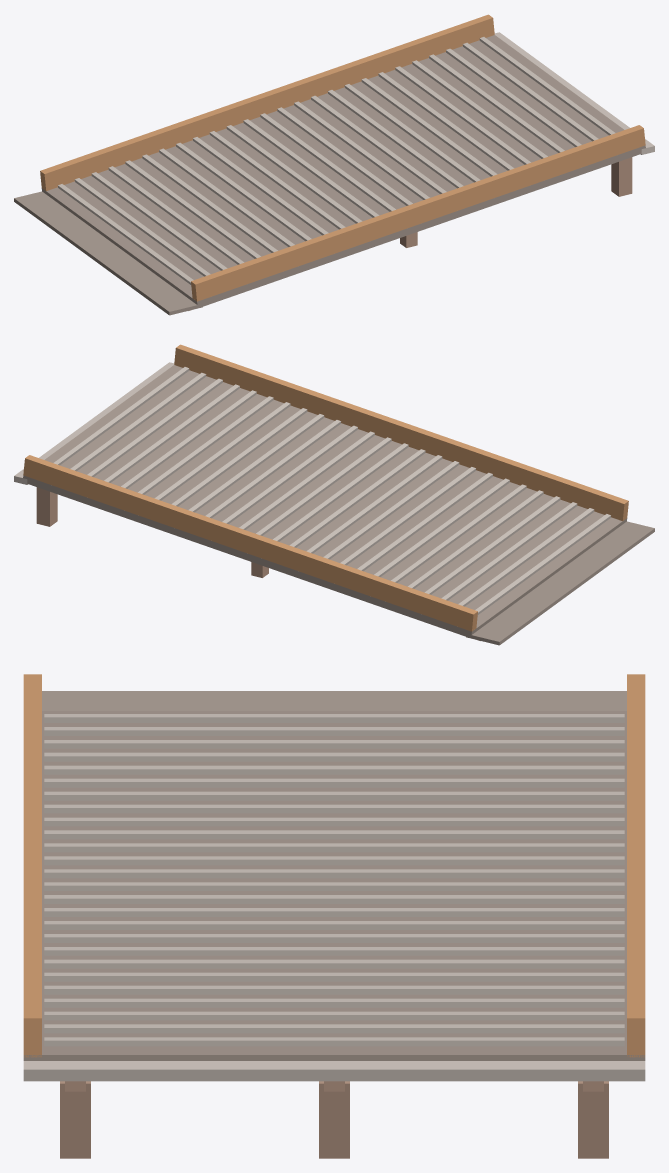
File: P08_vehicle_ramp_4m.glb
3 renders of one model, top to bottom at view 1: azimuth 30°, elevation 25°; view 2: azimuth 150°, elevation 25°; view 3: azimuth 270°, elevation 25°, orthographic. The views are drawn at different scales.
Visible parts, largest first — view 1: ramp_plate, grip_rib, side_rail, beam; view 2: ramp_plate, grip_rib, side_rail, beam; view 3: grip_rib, ramp_plate, side_rail, beam.
Part boxes in pixels (x1=…): ramp_plate: x1=14, y1=35, x2=645, y2=315; grip_rib: x1=58, y1=32, x2=654, y2=284; side_rail: x1=40, y1=14, x2=645, y2=301; beam: x1=189, y1=157, x2=632, y2=310; ramp_plate: x1=23, y1=365, x2=654, y2=645; grip_rib: x1=14, y1=362, x2=610, y2=614; side_rail: x1=23, y1=344, x2=628, y2=631; beam: x1=36, y1=487, x2=479, y2=640; grip_rib: x1=23, y1=714, x2=645, y2=1081; ramp_plate: x1=23, y1=691, x2=645, y2=1060; side_rail: x1=23, y1=674, x2=645, y2=1057; beam: x1=60, y1=1081, x2=608, y2=1158.
Size of the model in its own units: 4.33 by 0.6986 by 2.4.
